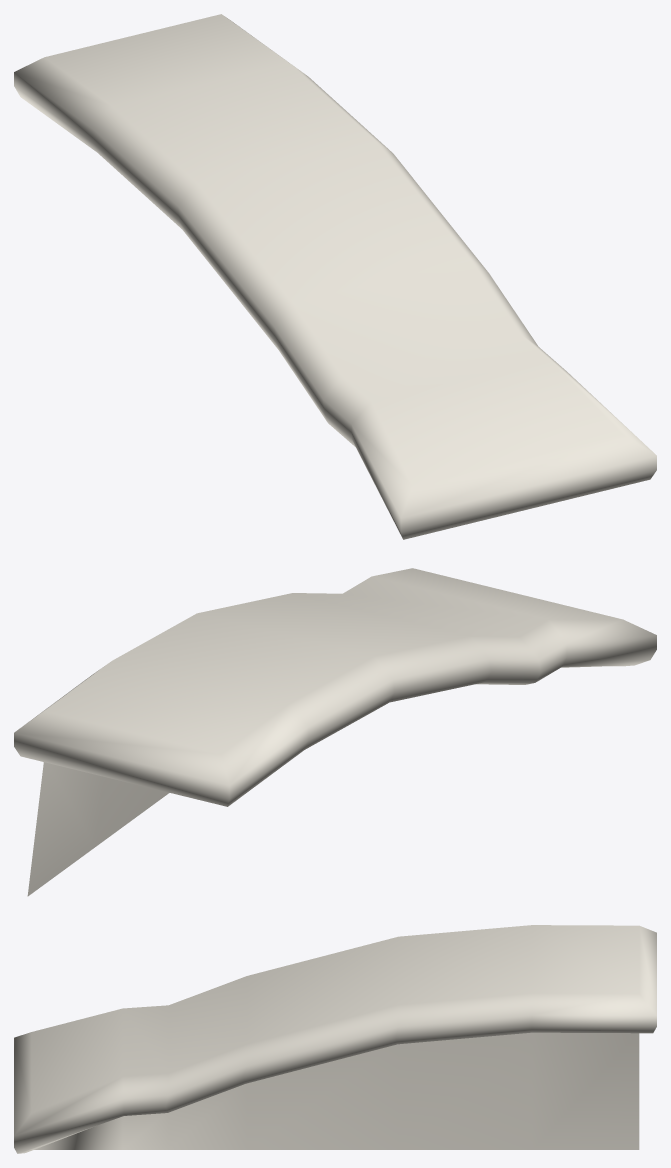
File: M_Path_Medium_Snow_A.fbx
3 views of the same model, one above another, from view 1: azimuth 30°, elevation 25°; view 2: azimuth 150°, elevation 25°; view 3: azimuth 270°, elevation 25° (orthographic). The views are drawn at different scales.
Visible parts, largest first — view 1: M_Path_Medium_Snow_A; view 2: M_Path_Medium_Snow_A; view 3: M_Path_Medium_Snow_A.
Part boxes in pixels (bbox=[...]): M_Path_Medium_Snow_A: bbox=[14, 14, 656, 539]; M_Path_Medium_Snow_A: bbox=[14, 568, 656, 896]; M_Path_Medium_Snow_A: bbox=[14, 925, 656, 1153].
Size of the model in its own units: 673 by 478 by 1853.
1 material, 1 textured.
